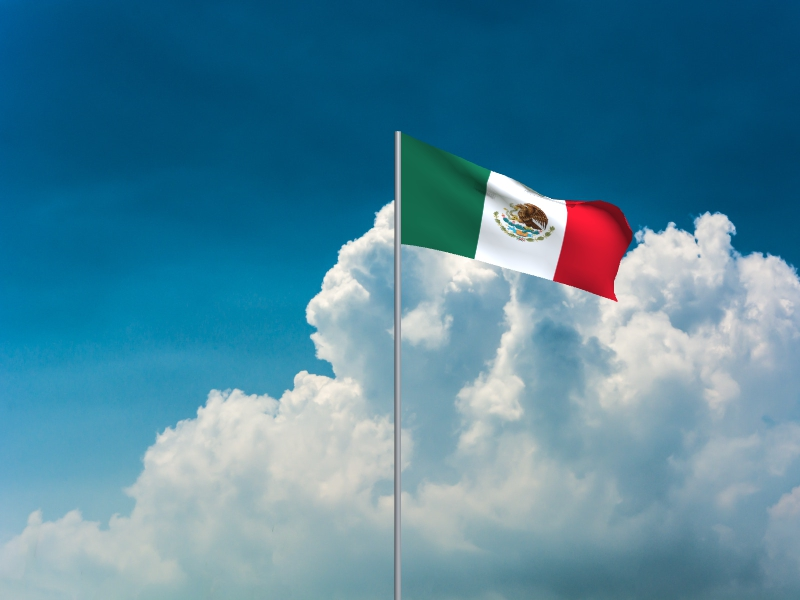mx: (402, 133, 633, 303)
